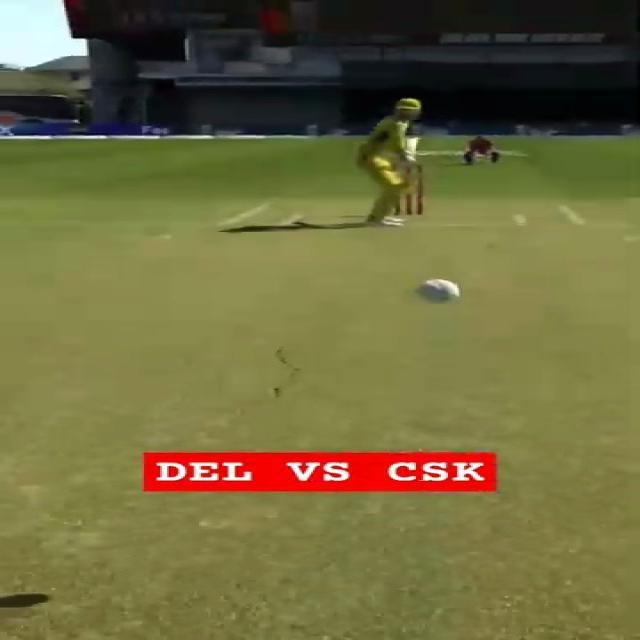ball: (412, 277, 468, 305)
